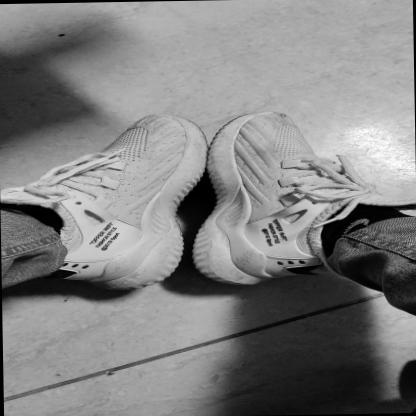ankle: (66, 229, 78, 235), (309, 229, 321, 235)
heel: (236, 275, 250, 283), (110, 281, 126, 287)
left_foot: (27, 114, 194, 292)
pinky: (290, 124, 298, 128), (130, 129, 136, 131)
right_foot: (191, 111, 350, 287)
toe: (168, 124, 178, 128), (249, 123, 257, 125)
